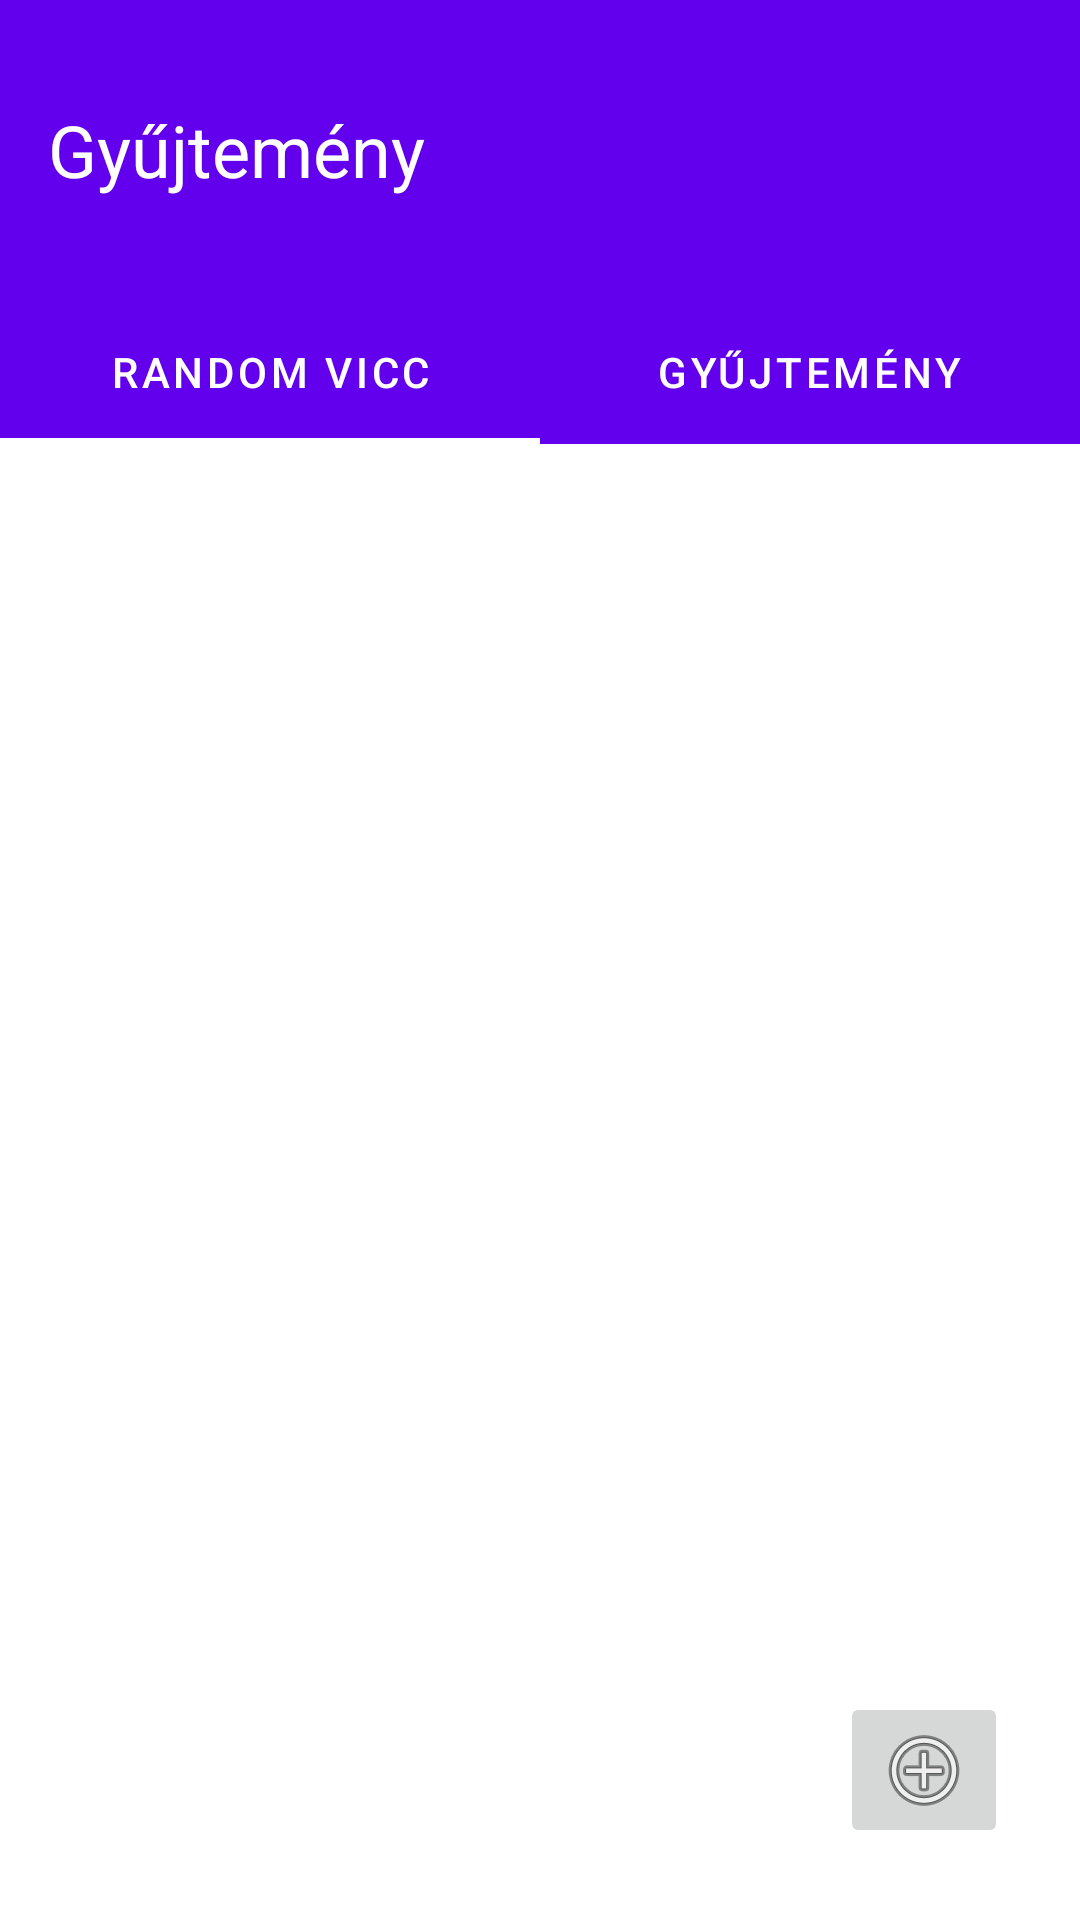

Point at icon controls on the screen. Image size 1080 x 1920, points as (x,y).
add: (924,1770)
